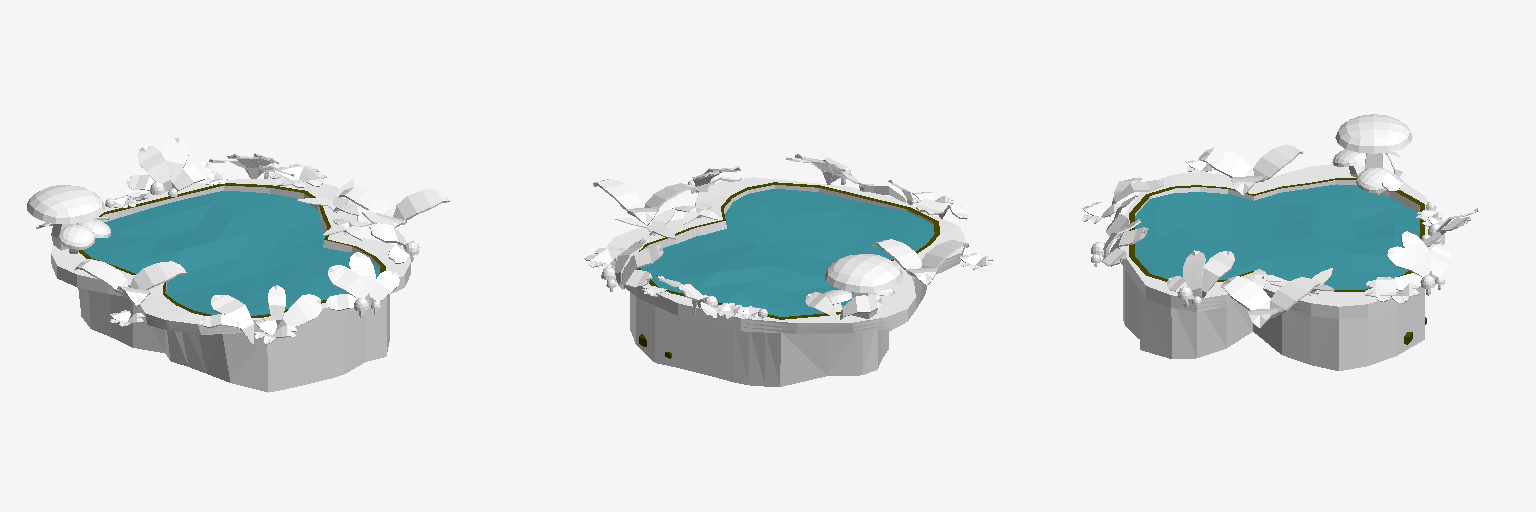
The model's file is pond.obj.
The picture shows the model from 3 angles: view 1: azimuth 30°, elevation 25°; view 2: azimuth 150°, elevation 25°; view 3: azimuth 270°, elevation 25°; orthographic projection.
Parts seen in each view (by area): view 1: pCube1_Mesh, _Grass:polySurface2_Mesh.031, pPlane1_Mesh.001; view 2: pCube1_Mesh, pPlane1_Mesh.001, _Grass:polySurface2_Mesh.031; view 3: pCube1_Mesh, pPlane1_Mesh.001, _Grass:polySurface2_Mesh.031.
Part boxes in pixels (x1,y1,x2,y2): pCube1_Mesh: (51,179,410,392); _Grass:polySurface2_Mesh.031: (27,138,450,344); pPlane1_Mesh.001: (83,191,379,315); pCube1_Mesh: (606,177,965,386); pPlane1_Mesh.001: (641,189,933,316); _Grass:polySurface2_Mesh.031: (584,154,993,319); pCube1_Mesh: (1118,164,1441,370); pPlane1_Mesh.001: (1135,184,1419,289); _Grass:polySurface2_Mesh.031: (1082,114,1477,328).
Size of the model in its own units: 15.79 by 5.26 by 14.69.